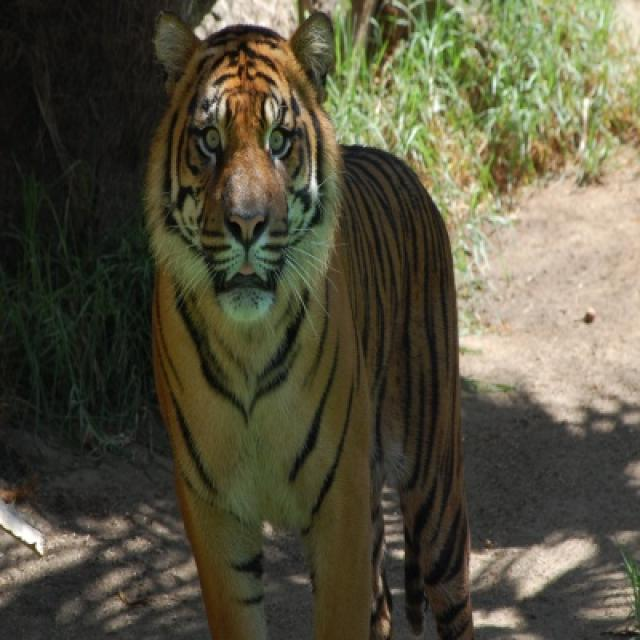Tiger: (144, 7, 477, 638)
